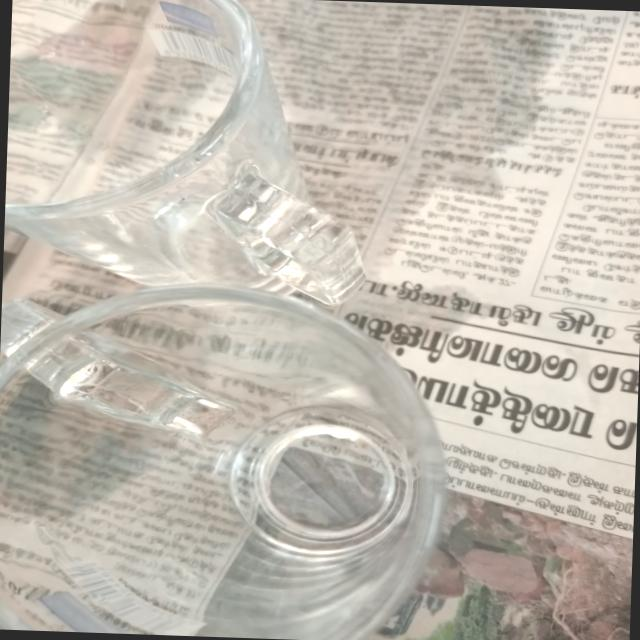glass-VX4N: (0, 277, 455, 640), (1, 0, 370, 301)
